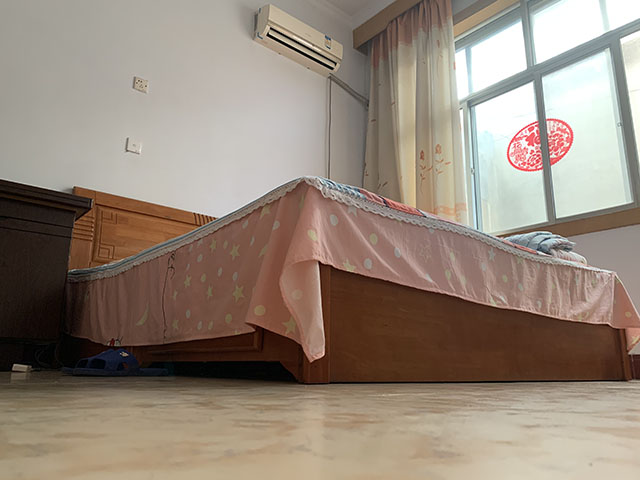bed: (68, 174, 640, 387)
cabinet: (1, 177, 94, 375)
curtain: (358, 3, 468, 227)
slippers: (61, 346, 171, 378)
